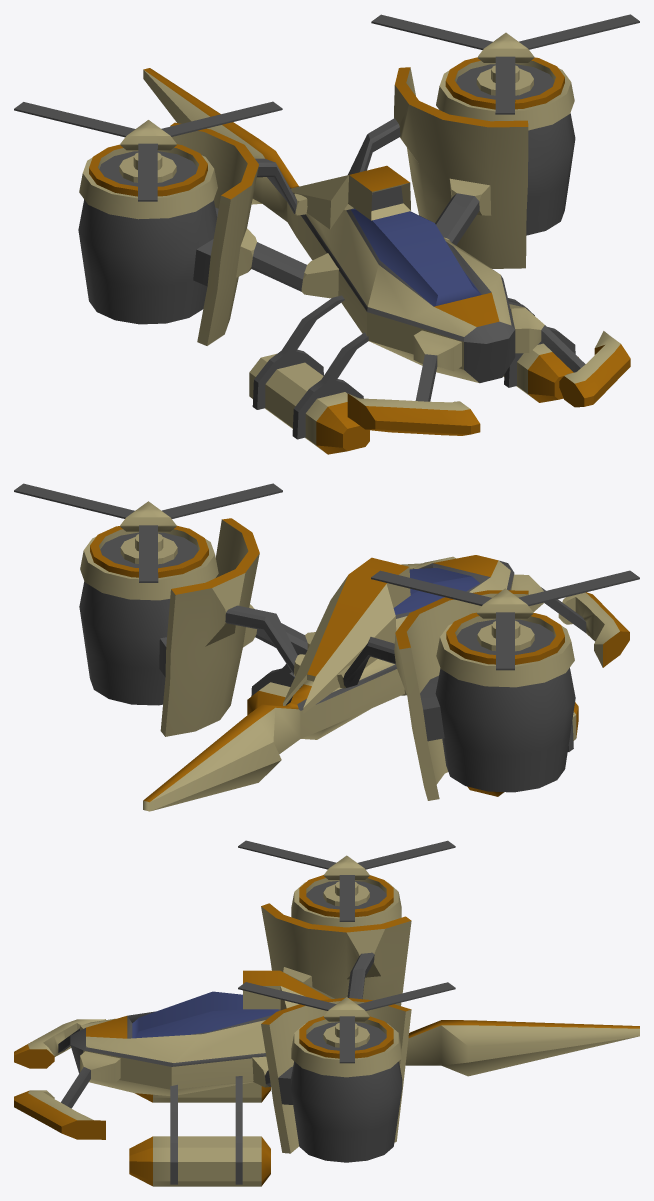
Rendered from ship_raider_heli.fbx.
3 views of the same model, one above another, from view 1: azimuth 30°, elevation 25°; view 2: azimuth 150°, elevation 25°; view 3: azimuth 270°, elevation 25° (orthographic). The views are drawn at different scales.
Parts seen in each view (by area): view 1: polySurface9, polySurface10, pCube1, polySurface7, pCube7, pCube10, pCube6, polySurface6, pCube4, polySurface8, pCylinder2, pCylinder4; view 2: polySurface10, polySurface9, pCube1, pCube4, pCube6, pCube10, pCube7, polySurface8, pCylinder2, pCylinder4; view 3: pCube1, polySurface10, polySurface9, polySurface8, polySurface6, pCube10, pCube6, pCube4, pCube7, polySurface7, pCylinder2, pCylinder4.
Part boxes in pixels (left/top/right/bottom): polySurface9: left=78, top=122, right=338, bottom=345; polySurface10: left=348, top=57, right=575, bottom=268; pCube1: left=143, top=68, right=515, bottom=383; polySurface7: left=249, top=295, right=369, bottom=454; pCube7: left=347, top=330, right=480, bottom=435; pCube10: left=371, top=14, right=639, bottom=114; pCube6: left=14, top=101, right=282, bottom=201; polySurface6: left=511, top=308, right=630, bottom=407; pCube4: left=291, top=165, right=410, bottom=229; polySurface8: left=503, top=298, right=578, bottom=402; pCylinder2: left=119, top=152, right=176, bottom=182; pCylinder4: left=476, top=65, right=533, bottom=95; polySurface10: left=79, top=518, right=315, bottom=736; polySurface9: left=337, top=590, right=575, bottom=800; pCube1: left=143, top=555, right=514, bottom=811; pCube4: left=283, top=557, right=410, bottom=713; pCube6: left=371, top=570, right=639, bottom=670; pCube10: left=14, top=483, right=282, bottom=582; pCube7: left=511, top=574, right=629, bottom=667; polySurface8: left=247, top=664, right=295, bottom=714; pCylinder2: left=477, top=620, right=534, bottom=651; pCylinder4: left=120, top=533, right=177, bottom=564; pCube1: left=70, top=991, right=639, bottom=1095; polySurface10: left=252, top=998, right=411, bottom=1162; polySurface9: left=261, top=875, right=411, bottom=1005; polySurface8: left=129, top=1076, right=270, bottom=1186; polySurface6: left=14, top=1051, right=120, bottom=1139; pCube10: left=238, top=982, right=455, bottom=1063; pCube6: left=238, top=840, right=455, bottom=921; pCube4: left=243, top=970, right=334, bottom=1010; pCube7: left=14, top=1018, right=115, bottom=1068; polySurface7: left=134, top=1082, right=270, bottom=1102; pCylinder2: left=323, top=881, right=369, bottom=906; pCylinder4: left=323, top=1023, right=369, bottom=1047.
Size of the model in its own units: 9.19 by 3.99 by 10.97.
